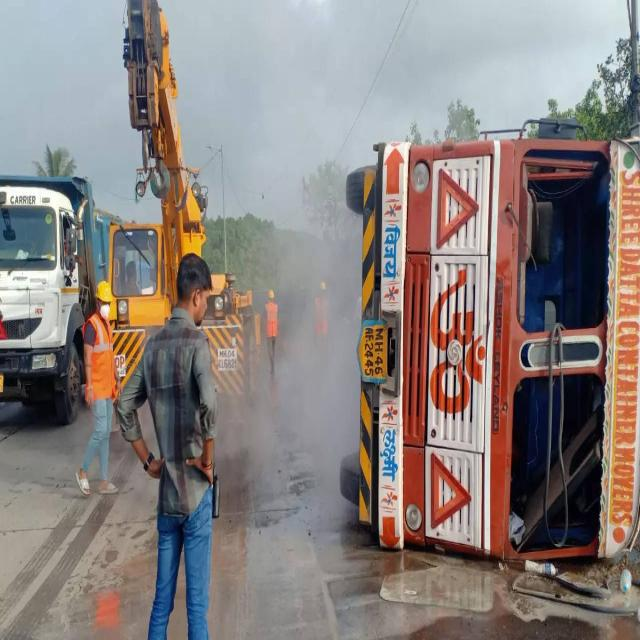accident: (346, 118, 640, 561)
truck: (110, 0, 260, 397), (0, 176, 110, 424)
